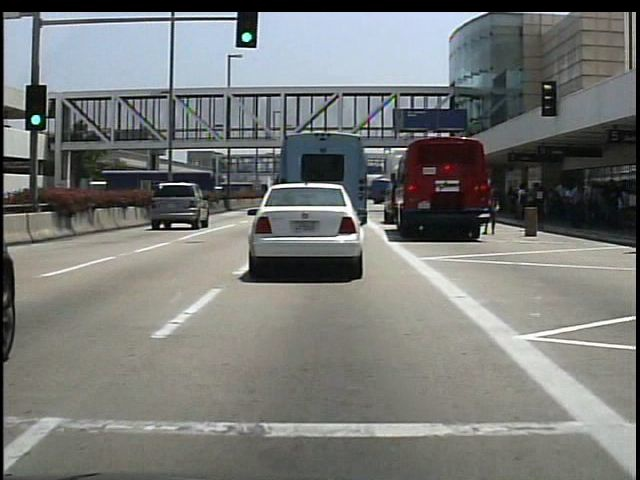person: (485, 188, 498, 238)
